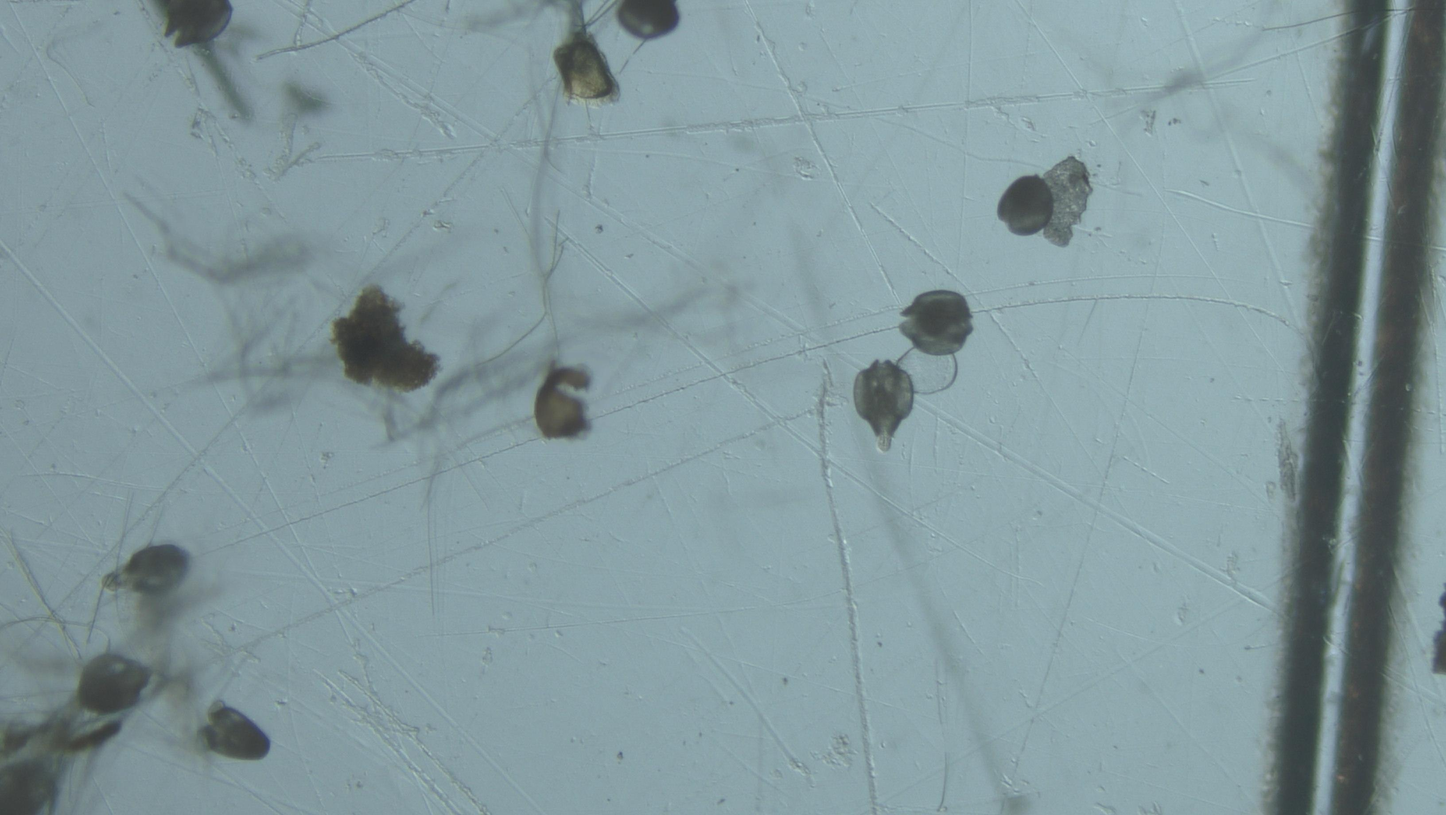dead: (897, 348, 958, 396)
live: (553, 0, 618, 105), (853, 360, 915, 453), (898, 290, 974, 357), (76, 653, 152, 714), (104, 545, 190, 595), (200, 702, 271, 761), (998, 175, 1054, 237), (617, 0, 680, 41)
